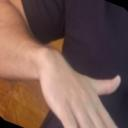hand: (41, 58, 121, 128)
